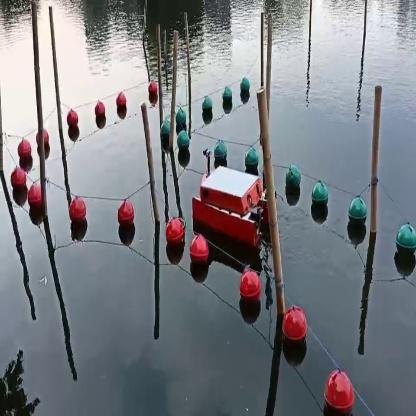green_buoy: (399, 219, 415, 266), (348, 195, 367, 227), (316, 187, 329, 222), (287, 170, 303, 198), (247, 150, 262, 178), (200, 96, 214, 122), (214, 140, 227, 168), (161, 119, 170, 151), (180, 134, 191, 160), (240, 78, 249, 102), (178, 106, 186, 132), (225, 88, 231, 106)
red_buoy: (326, 367, 362, 405), (283, 298, 307, 351), (239, 270, 261, 304), (166, 215, 185, 254), (191, 234, 209, 270), (116, 198, 134, 233), (10, 161, 26, 192), (28, 181, 41, 217), (70, 199, 85, 228), (95, 100, 106, 124), (18, 140, 30, 160), (116, 90, 126, 113), (70, 109, 79, 133), (150, 76, 156, 102)
